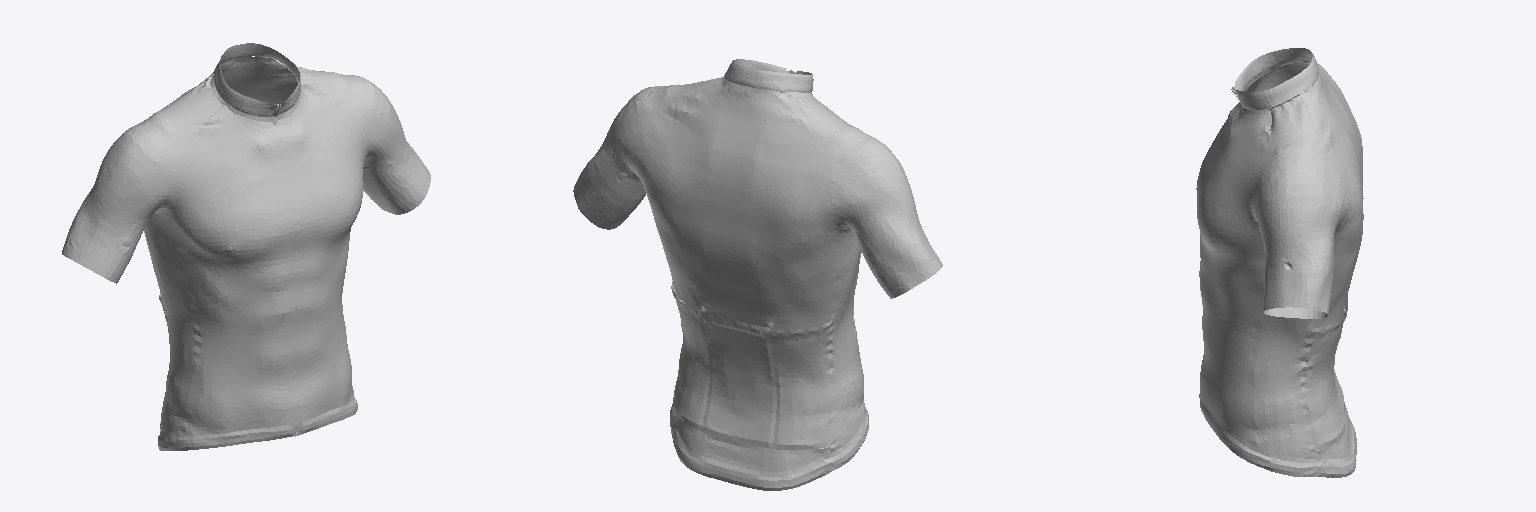
File: jersey_02.obj
The picture shows the model from 3 angles: view 1: azimuth 30°, elevation 25°; view 2: azimuth 150°, elevation 25°; view 3: azimuth 270°, elevation 25°; orthographic projection.
Visible parts, largest first — view 1: dada kanan, dada kanan_1, arm kanan_1, arm kanan, side kiri_1, Pattern2D_492047, collar, Zipper_1_7, Zipper_1_6; view 2: Pattern2D_492048, Pattern2D_492047, Pattern2D_92082, arm kanan_1, arm kanan, side kiri_1, collar, Pattern2D_492049; view 3: dada kanan_1, arm kanan, side kiri_2, Pattern2D_492047, Pattern2D_92082, collar, Pattern2D_492048, arm kanan_1, dada kanan.
Boxes of the visible parts, <box> form: dada kanan: <box>173,101,294,450</box>; dada kanan_1: <box>278,88,364,434</box>; arm kanan_1: <box>62,74,223,283</box>; arm kanan: <box>273,59,430,214</box>; side kiri_1: <box>145,206,197,450</box>; Pattern2D_492047: <box>229,57,297,105</box>; collar: <box>214,43,300,116</box>; Zipper_1_7: <box>275,104,301,435</box>; Zipper_1_6: <box>271,106,297,436</box>; Pattern2D_492048: <box>727,86,844,490</box>; Pattern2D_492047: <box>635,78,746,483</box>; Pattern2D_92082: <box>672,281,832,449</box>; arm kanan_1: <box>782,91,942,298</box>; arm kanan: <box>573,77,728,229</box>; side kiri_1: <box>827,225,868,470</box>; collar: <box>724,59,813,92</box>; Pattern2D_492049: <box>671,286,832,336</box>; dada kanan_1: <box>1197,106,1271,465</box>; arm kanan: <box>1249,91,1346,318</box>; side kiri_2: <box>1250,220,1318,476</box>; Pattern2D_492047: <box>1303,74,1363,477</box>; Pattern2D_92082: <box>1302,294,1347,449</box>; collar: <box>1234,48,1318,109</box>; Pattern2D_492048: <box>1306,61,1363,447</box>; arm kanan_1: <box>1253,60,1340,91</box>; dada kanan: <box>1196,70,1269,397</box>.
Size of the model in its own units: 634 by 671 by 254.